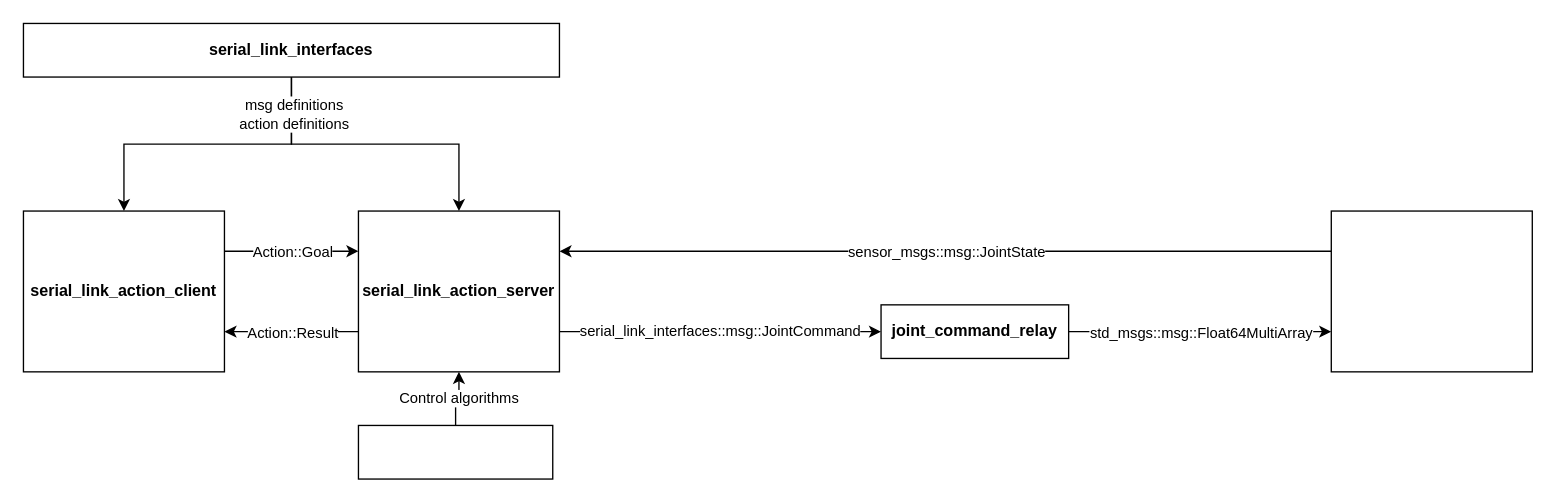
Some shapes in this 1556 by 503 pixel diagram are drawn without their labels. Each missing label, with the box of its shape:
robot: (1330, 210, 1532, 372)
RobotLibrary: (357, 424, 553, 479)
